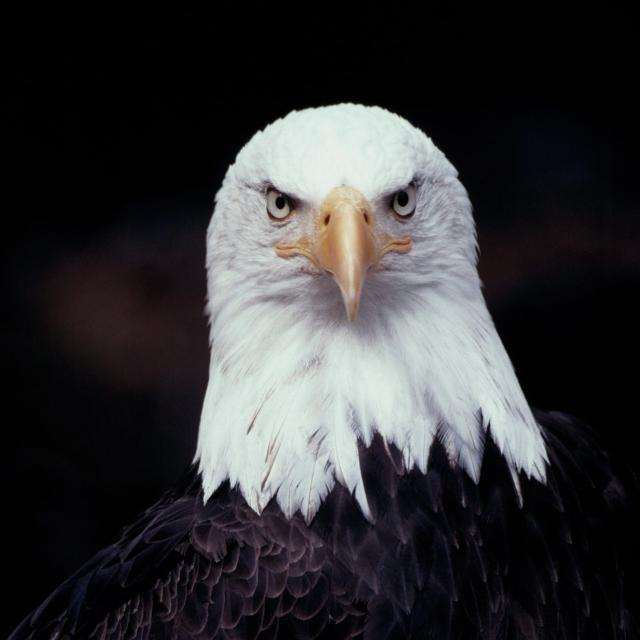Birds: (140, 58, 568, 580)
